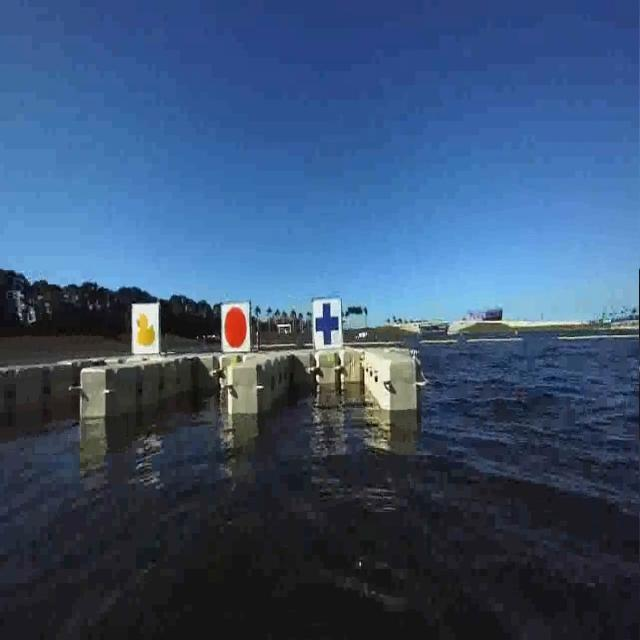blue-cross: (313, 298, 344, 349)
red-dot: (223, 299, 251, 348)
yellow-duck: (132, 306, 160, 357)
